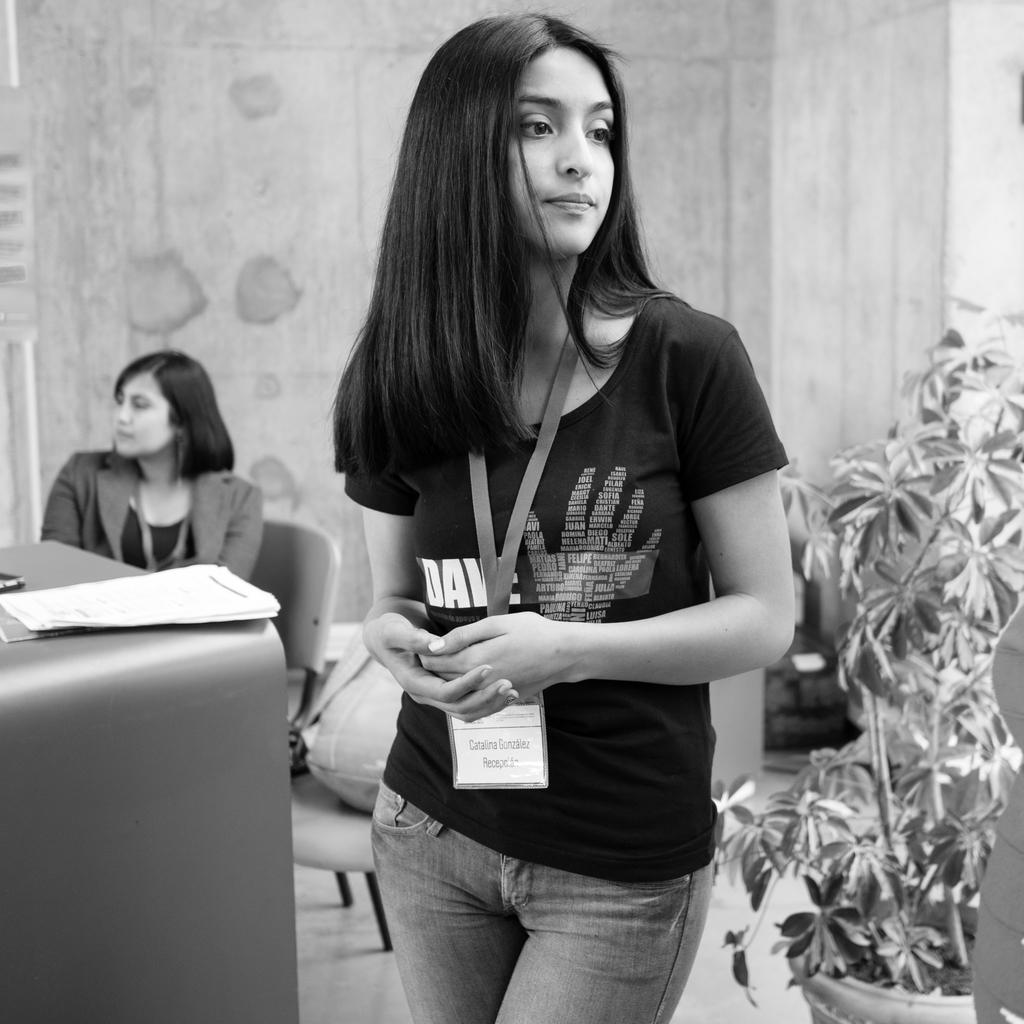Sem Máscara: (489, 40, 622, 252), (108, 371, 172, 457)
